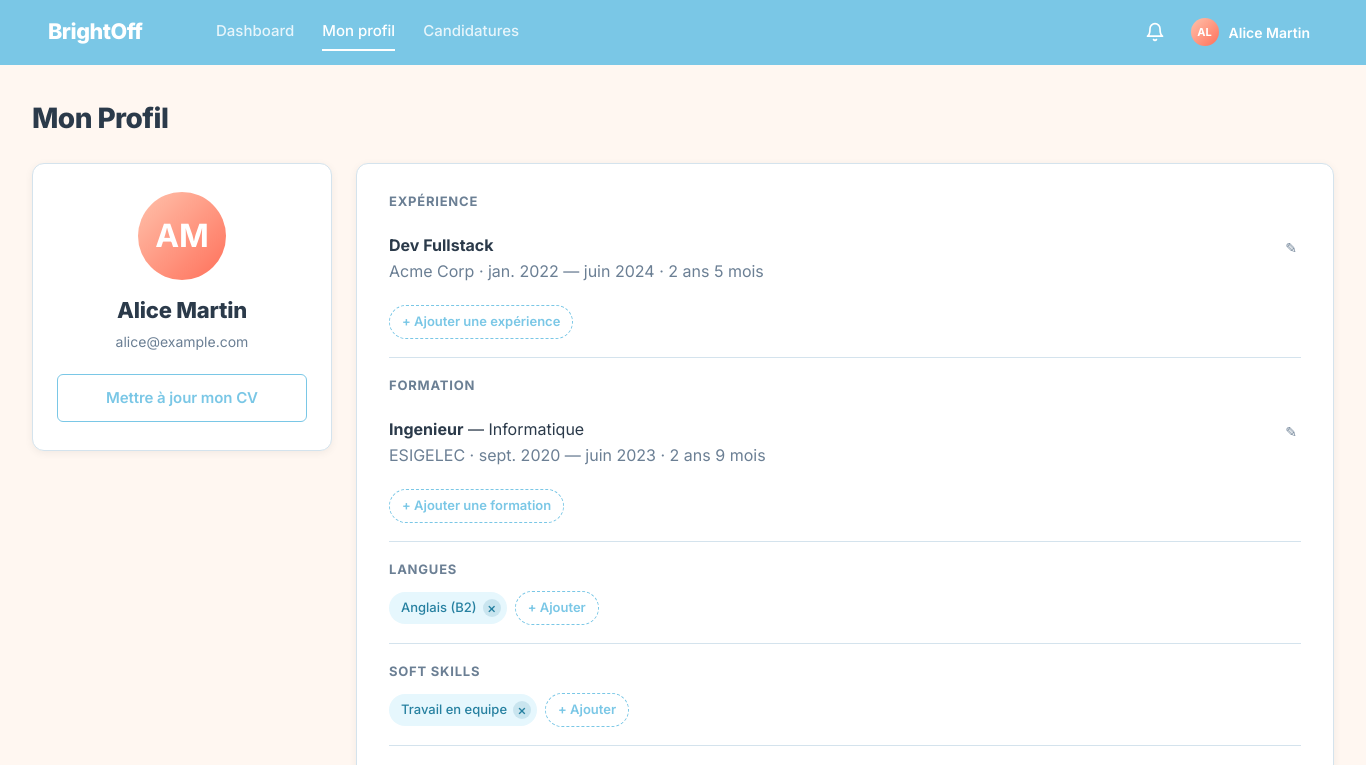
ProfilePage › opens_education_modal_in_create_mode_when_add_formation_clicked
The image size is (1366, 765).
Click the button "+ Ajouter une formation": (477, 506) [389,489,564,522]
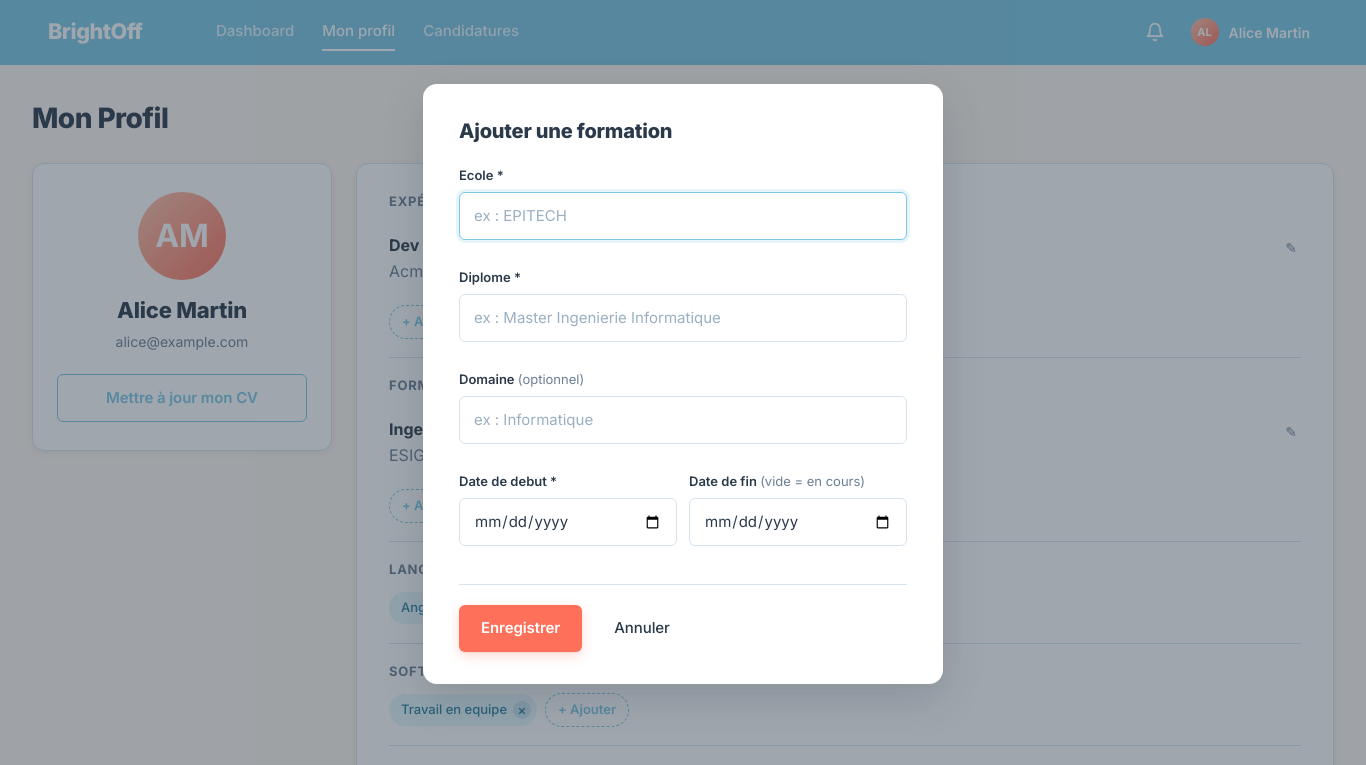
Result: the heading "Ajouter une formation" is shown at [459,119,672,143]
